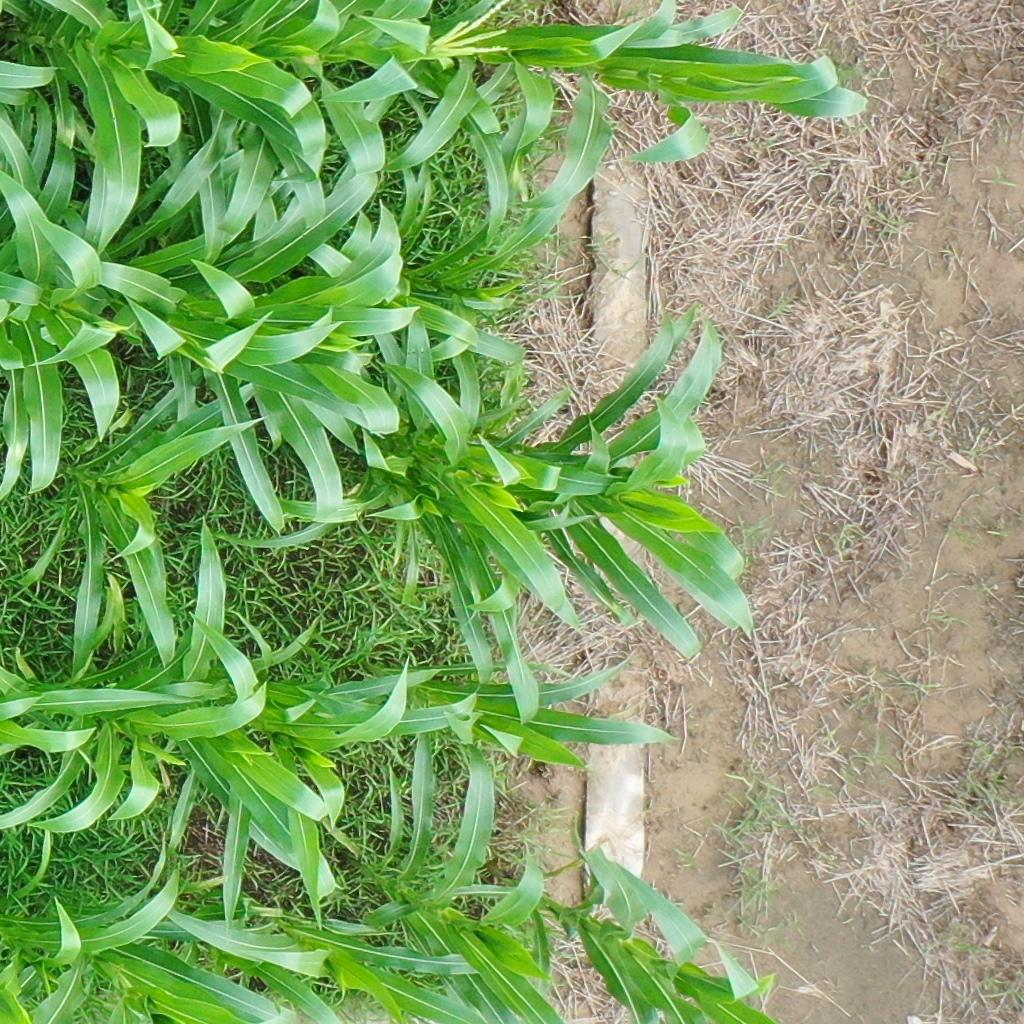Tassel: (422, 1, 515, 64)
